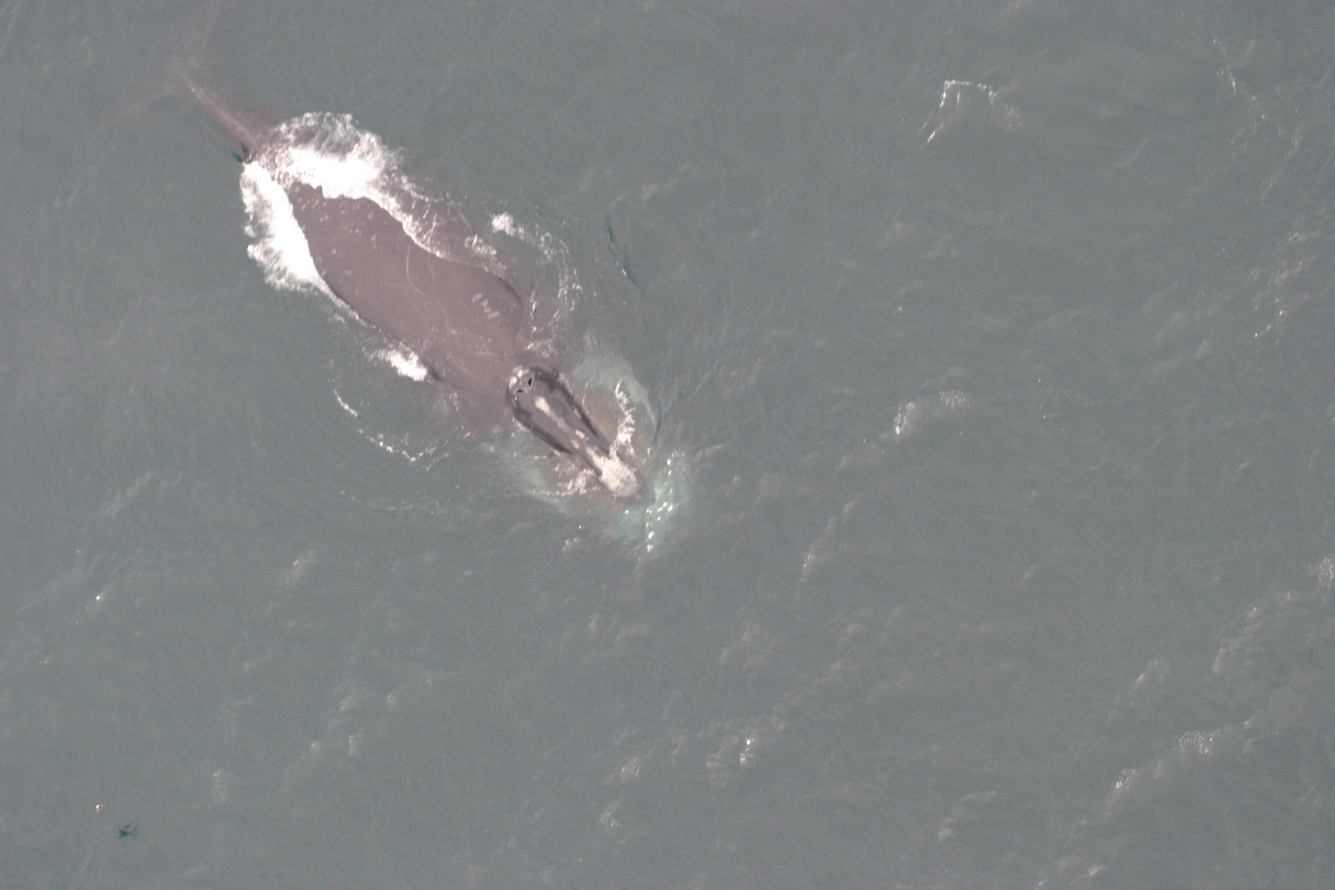whale: (66, 0, 699, 571)
